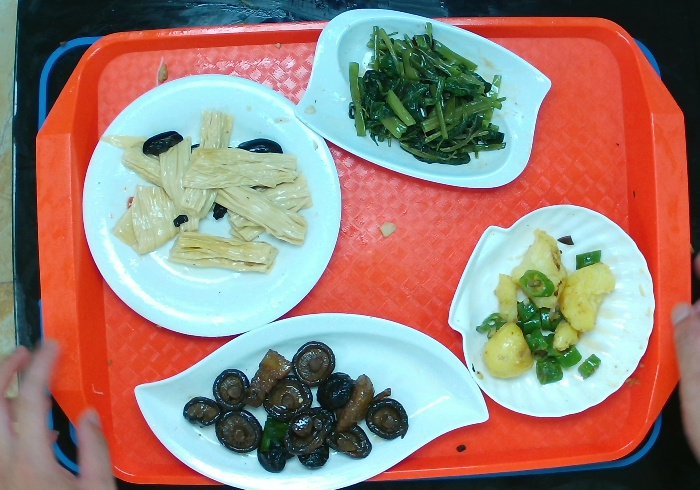RJxy-Bei_Ke_Wan: (447, 201, 657, 419)
RJxy-Jian_Jiao_Fang_Die: (292, 7, 553, 190)
RJxy-Jian_Jiao_Pan: (132, 310, 490, 490)
RJxy-Yuan_Pan: (80, 72, 344, 338)
